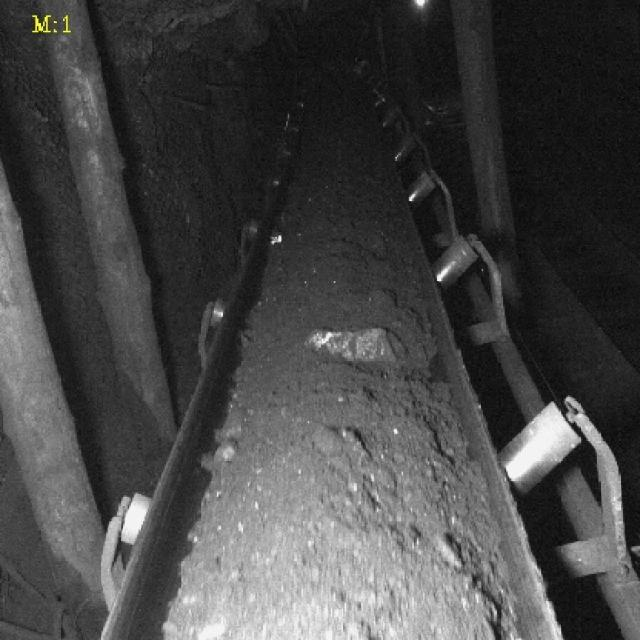large_sized_coal: (305, 318, 403, 369)
